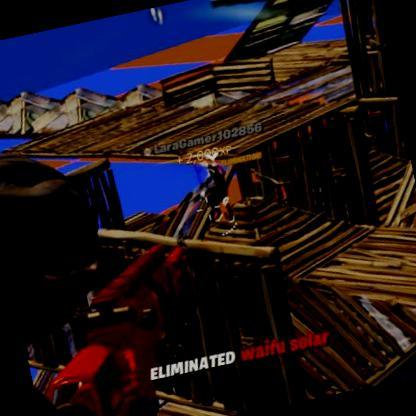person: (195, 162, 230, 224)
